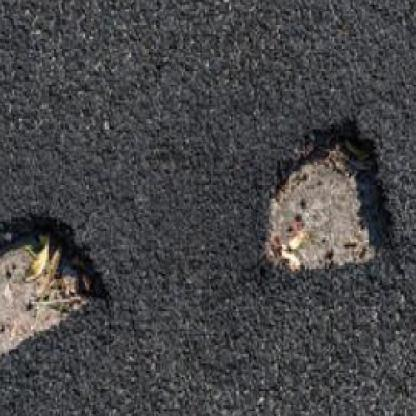pothole: (261, 116, 400, 272), (0, 210, 108, 377)
